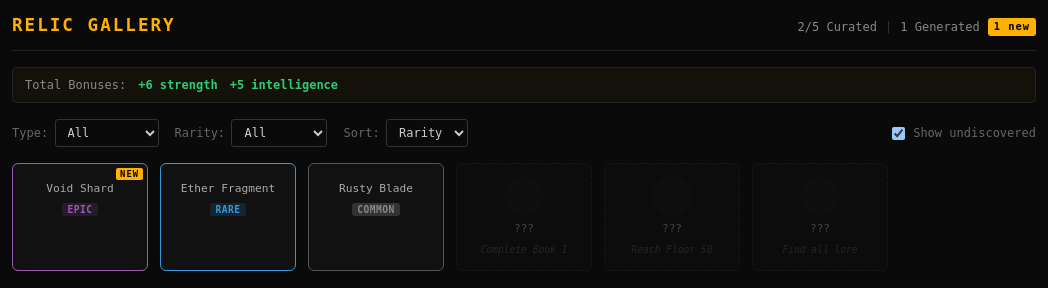
Test: RelicGallery Component › filters by type
Expected: the text "Void Shard" is shown, 46,182 -> 114,197
Select "Generated" in the dropdown next to "Type:": coordinates (106, 133) 54,119 -> 158,147
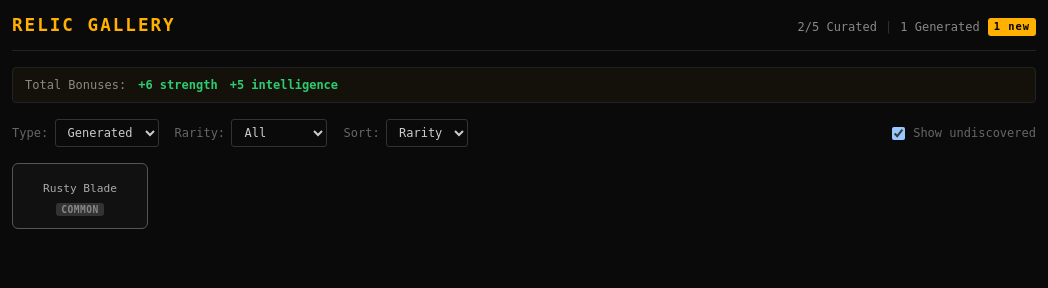
Expected: the text "Rusty Blade" is shown, 43,182 -> 117,197
Expected: the button "Void Shard" is gone
